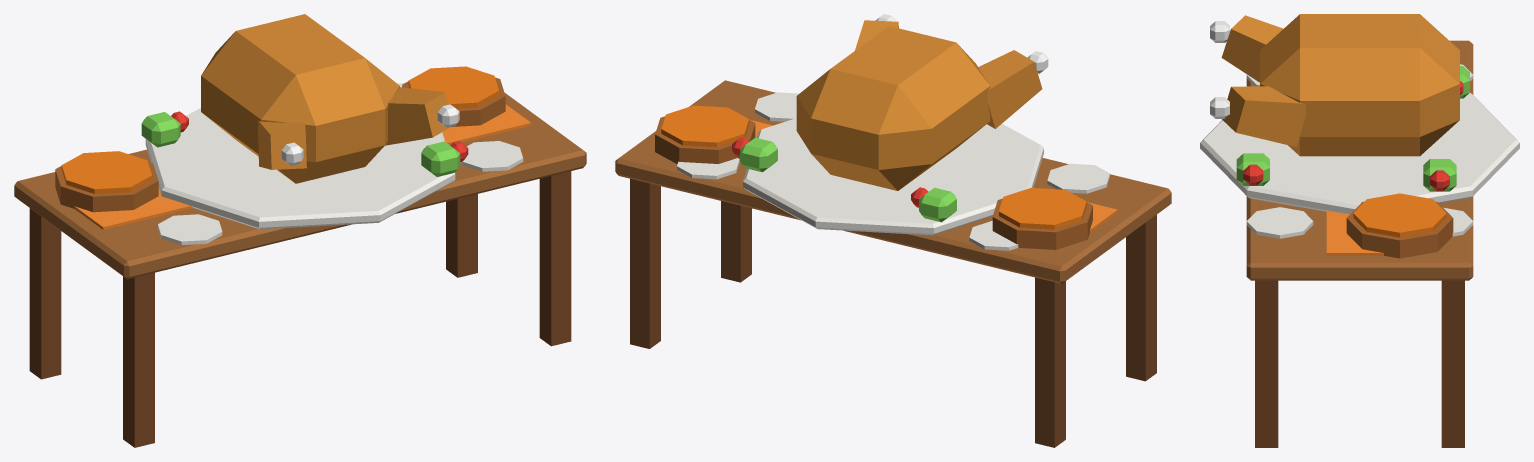
The model's file is HarvestTable.fbx.
3 renders of one model, left to right at view 1: azimuth 30°, elevation 25°; view 2: azimuth 150°, elevation 25°; view 3: azimuth 270°, elevation 25°, orthographic. The views are drawn at different scales.
Visible parts, largest first — view 1: HarvestTable; view 2: HarvestTable; view 3: HarvestTable.
Part boxes in pixels (box(x1,y1,x2,y2)): HarvestTable: box(14, 14, 586, 447); HarvestTable: box(615, 14, 1171, 447); HarvestTable: box(1200, 14, 1519, 447).
Size of the model in its own units: 8 by 5.15 by 4.8.
1 material, 1 textured.
